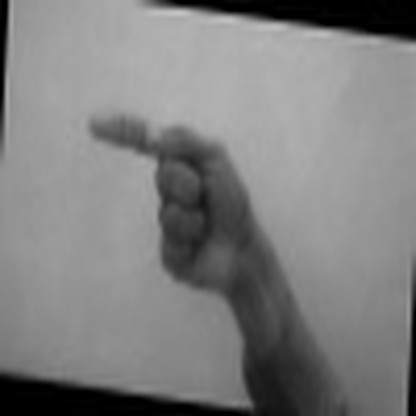g: (79, 104, 261, 289)
